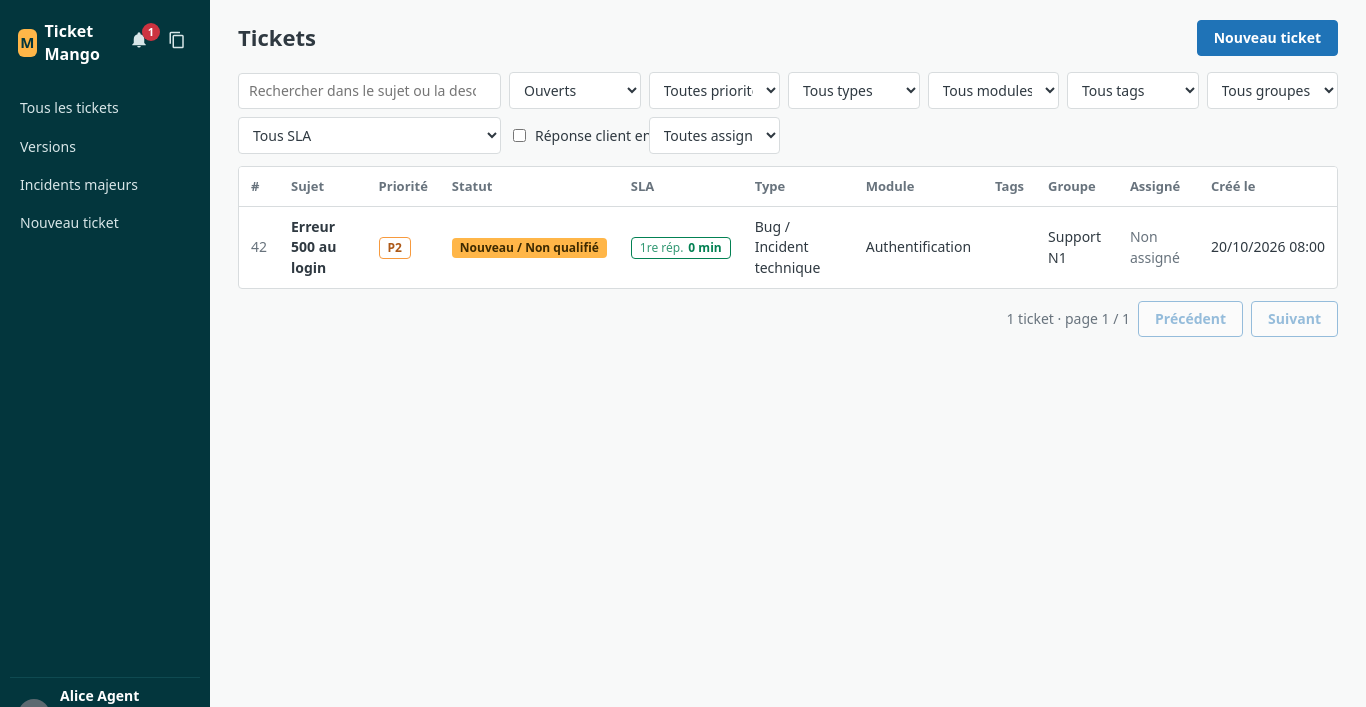
it: notifications › affiche le nombre non lu et ouvre le ticket en marquant la notification lue
Click the button named "Notifications (1 non lues)".
click(139, 43)  # box [124,27,154,59]
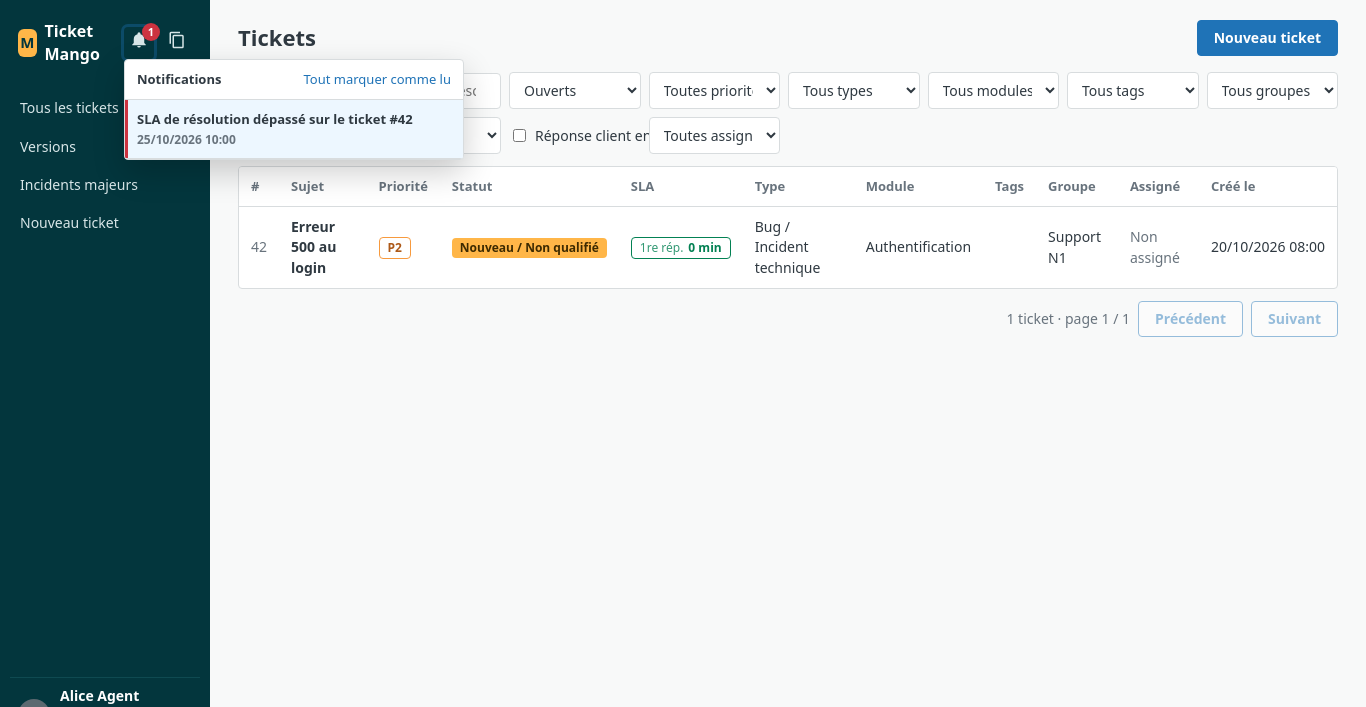
Click the button "SLA de résolution dépassé sur le ticket #42 25/10/2026 10:00".
click(294, 130)  # box [125,100,463,159]
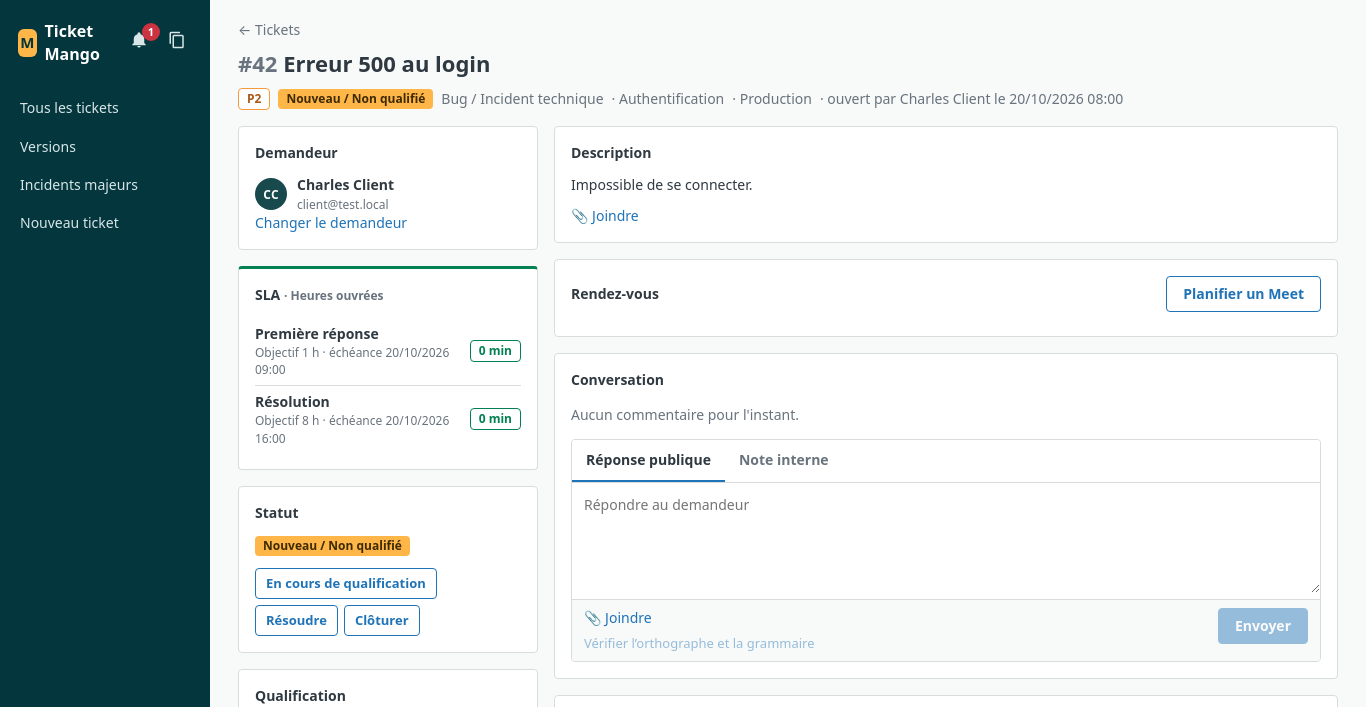
Check: the heading "#42 Erreur 500 au login" is shown, box [238,48,490,78]
